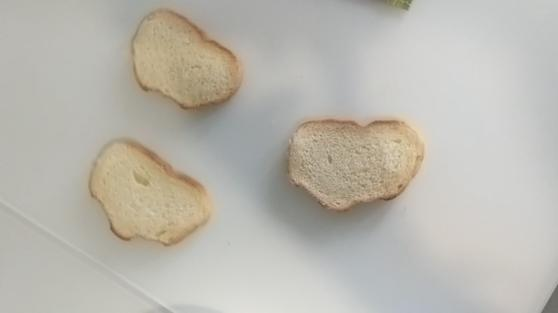white_bread: (287, 111, 429, 214), (86, 137, 214, 246), (124, 6, 251, 113)
